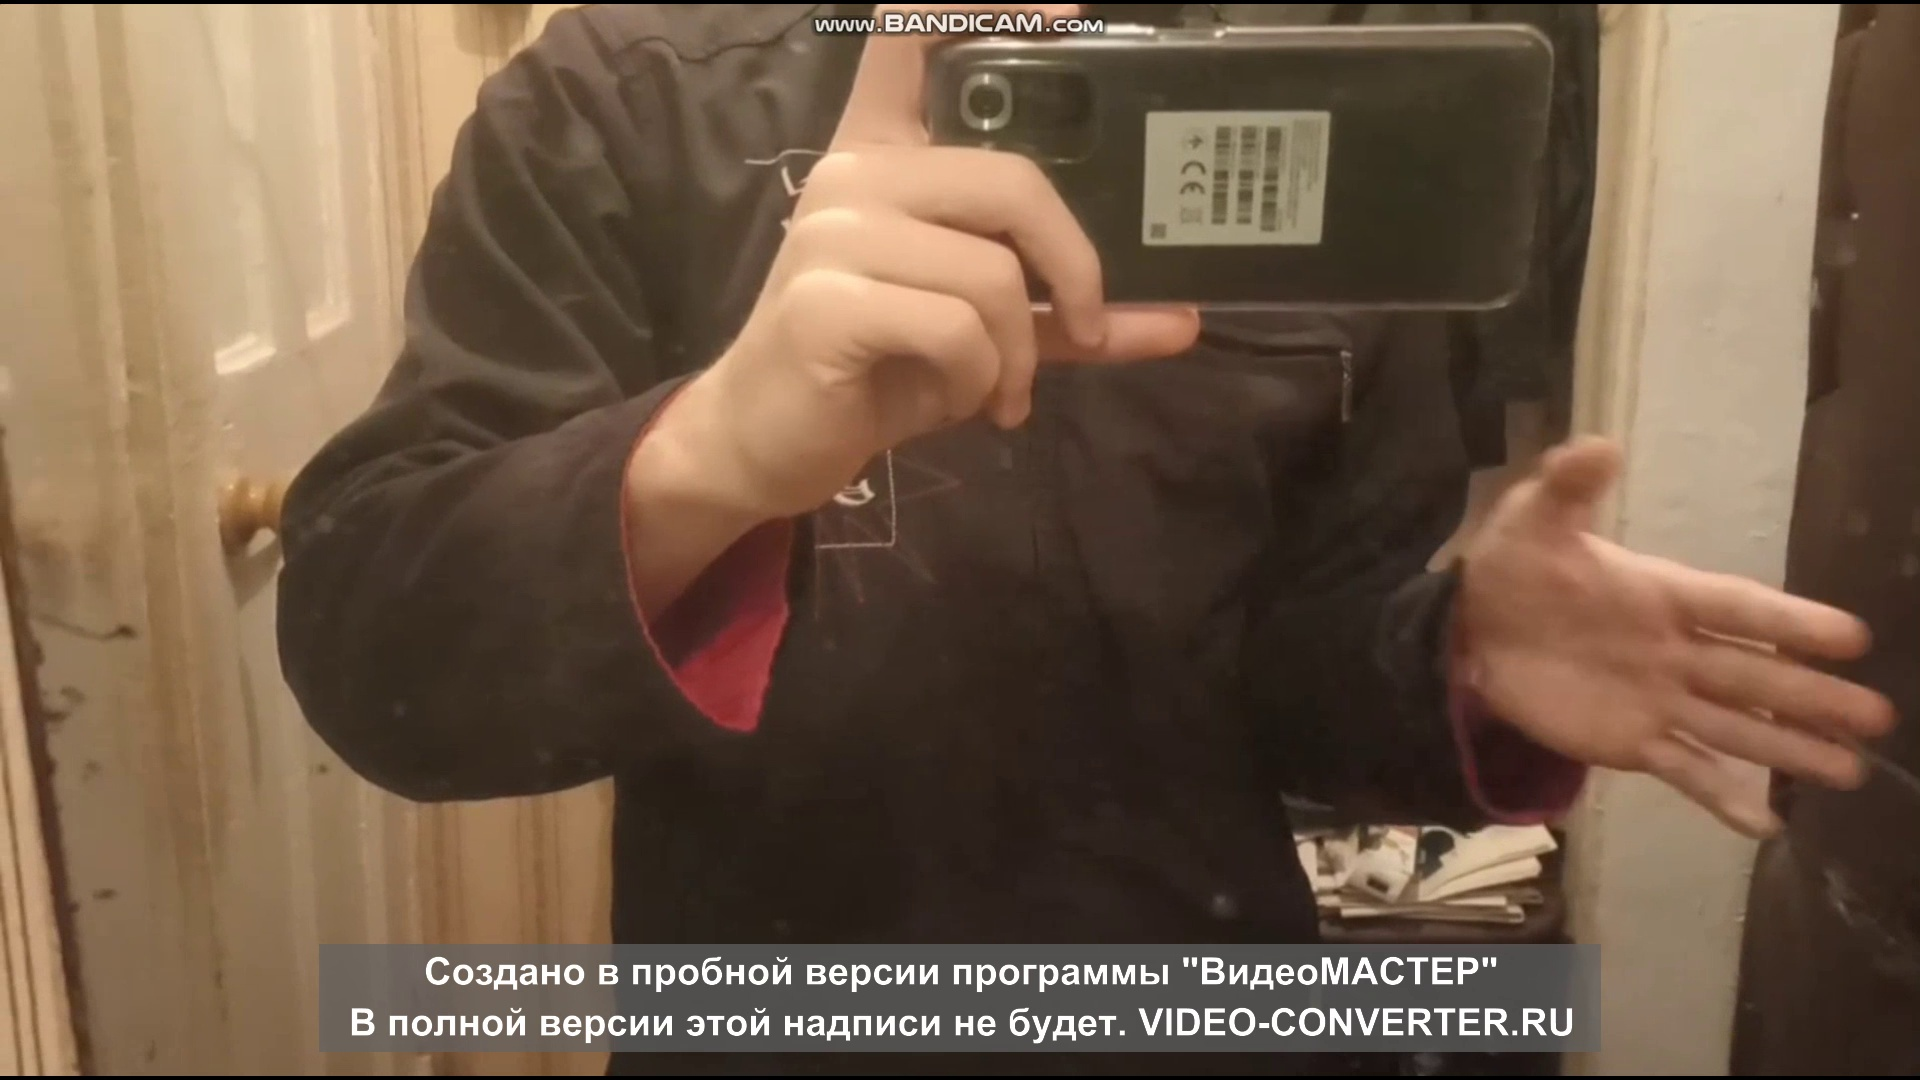Ладонь: (1472, 431, 1891, 836)
